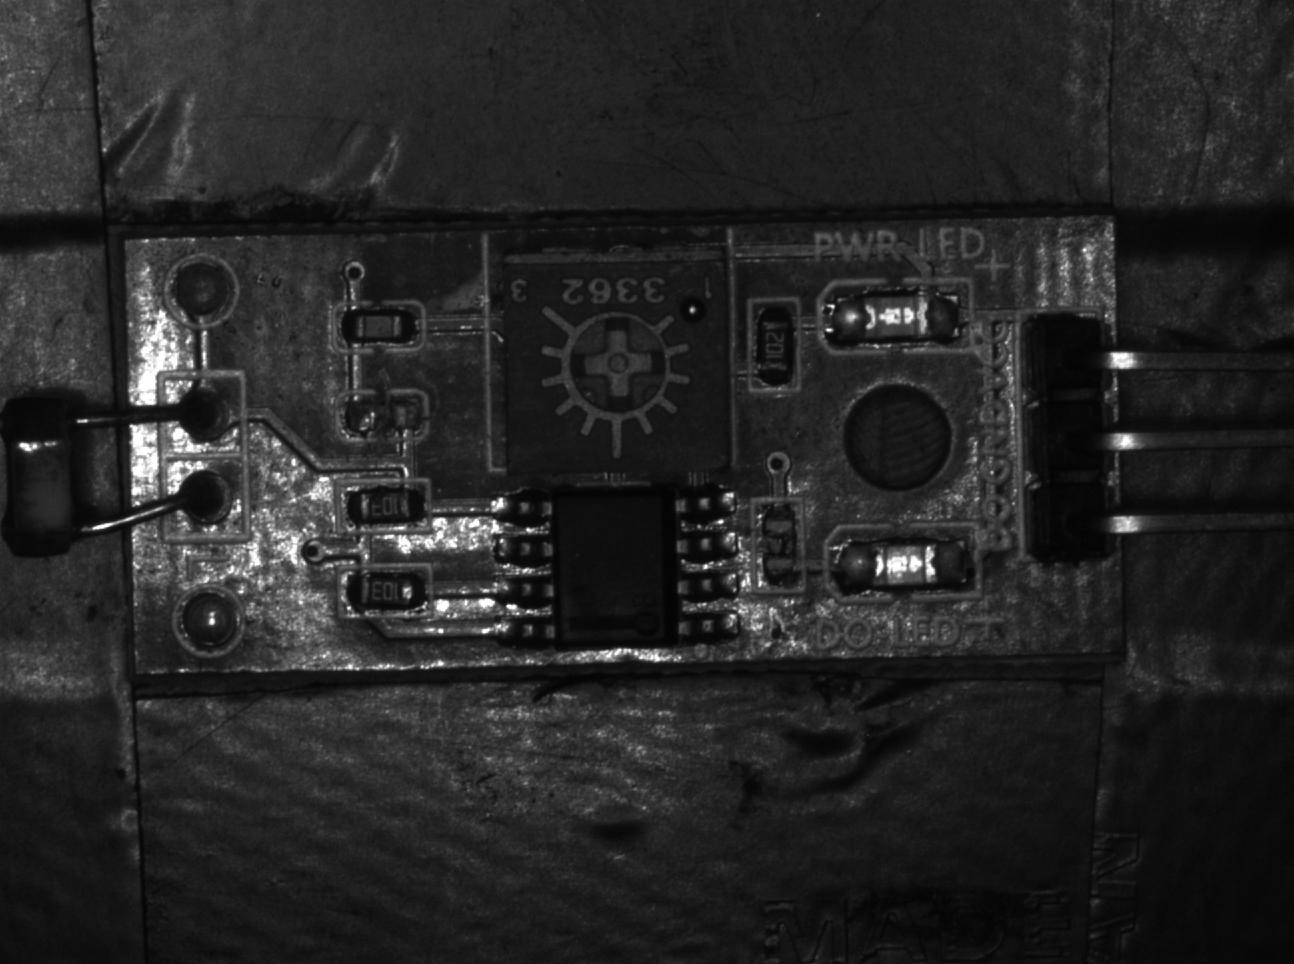miss: (333, 385, 430, 445), (755, 495, 804, 594)
ok: (336, 566, 436, 618), (329, 303, 426, 353), (748, 300, 800, 394), (336, 480, 434, 528)
